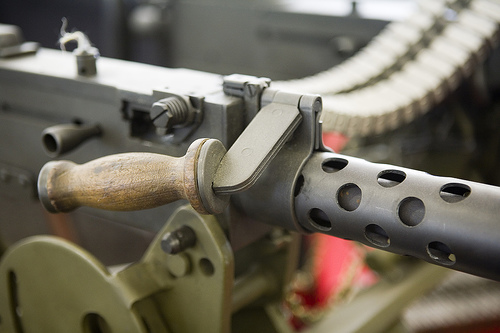rifle: (5, 59, 498, 288)
